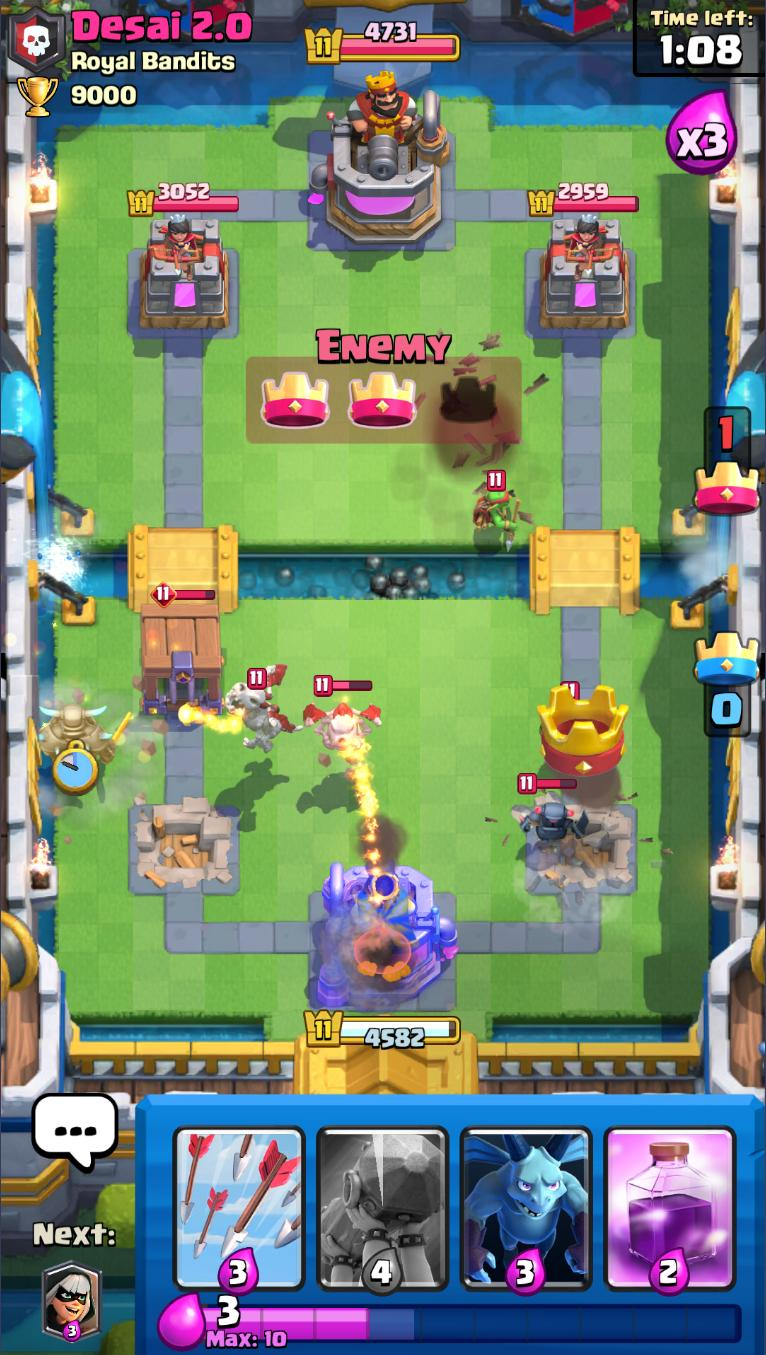ArrowDeck: (165, 1096, 307, 1295)
BanditNext: (41, 1263, 101, 1344)
BattleRamDeck: (311, 1097, 454, 1295)
Elixir: (202, 1295, 745, 1352)
EnemyTower: (137, 214, 231, 333), (538, 214, 632, 331)
EvoGoblinCage: (142, 578, 227, 716)
KingTower: (309, 80, 454, 248)
KingTowerHP: (304, 27, 462, 65)
MiniPekka: (516, 771, 590, 846)
MinionsDeck: (454, 1097, 600, 1294)
MyKingHP: (302, 1006, 463, 1051)
MyKingTower: (318, 855, 460, 1009)
MyPekka: (28, 701, 133, 771)
MyPrincessTowerBrocken: (523, 775, 639, 896), (126, 794, 242, 899)
PrincessTower: (549, 214, 604, 275), (152, 214, 202, 273)
RageDeck: (600, 1097, 744, 1294)
SkeletonDragon: (225, 659, 303, 756), (302, 674, 383, 755)
SpearGoblin: (470, 469, 524, 553)
TowerPrincessHP: (127, 180, 241, 217), (527, 181, 640, 216)
